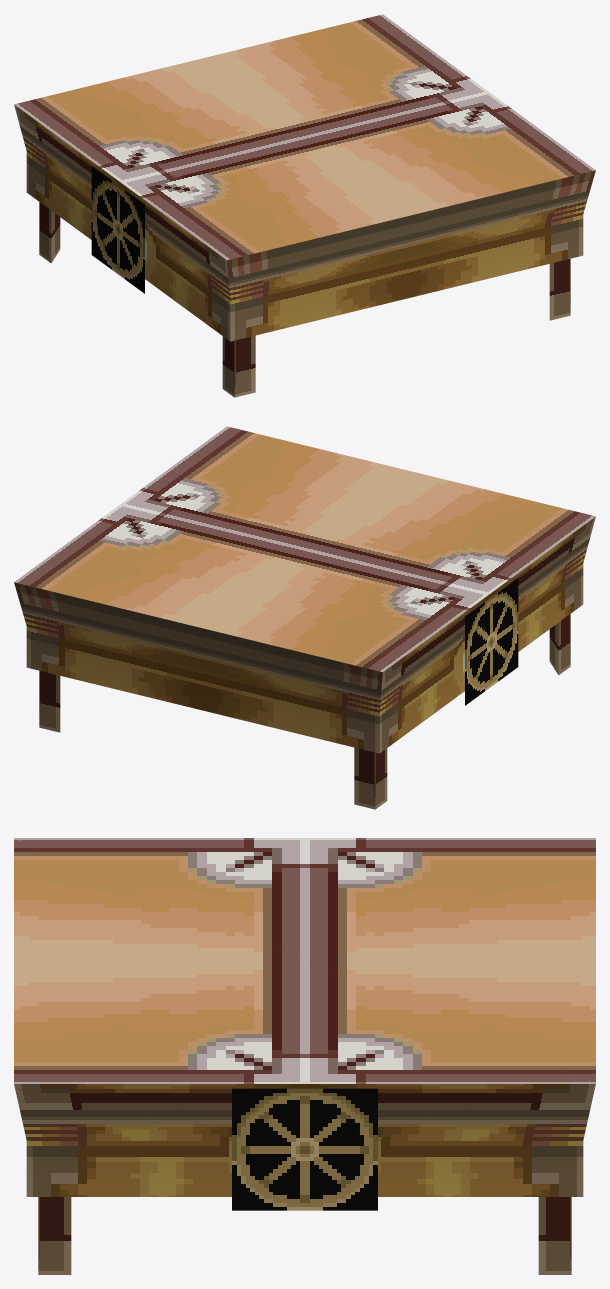
The picture shows the model from 3 angles, top to bottom: view 1: azimuth 30°, elevation 25°; view 2: azimuth 150°, elevation 25°; view 3: azimuth 270°, elevation 25°; orthographic projection. The views are drawn at different scales.
Visible parts, largest first — view 1: 3606kg_17_ta0; view 2: 3606kg_17_ta0; view 3: 3606kg_17_ta0.
Boxes of the visible parts, left/top/right/bottom form: 3606kg_17_ta0: left=14, top=14, right=595, bottom=397; 3606kg_17_ta0: left=14, top=426, right=595, bottom=809; 3606kg_17_ta0: left=14, top=838, right=595, bottom=1274.
Bounding box in the file's own units: 1.97 × 0.7471 × 1.95.
Materials: 3 (3 with a texture image).
